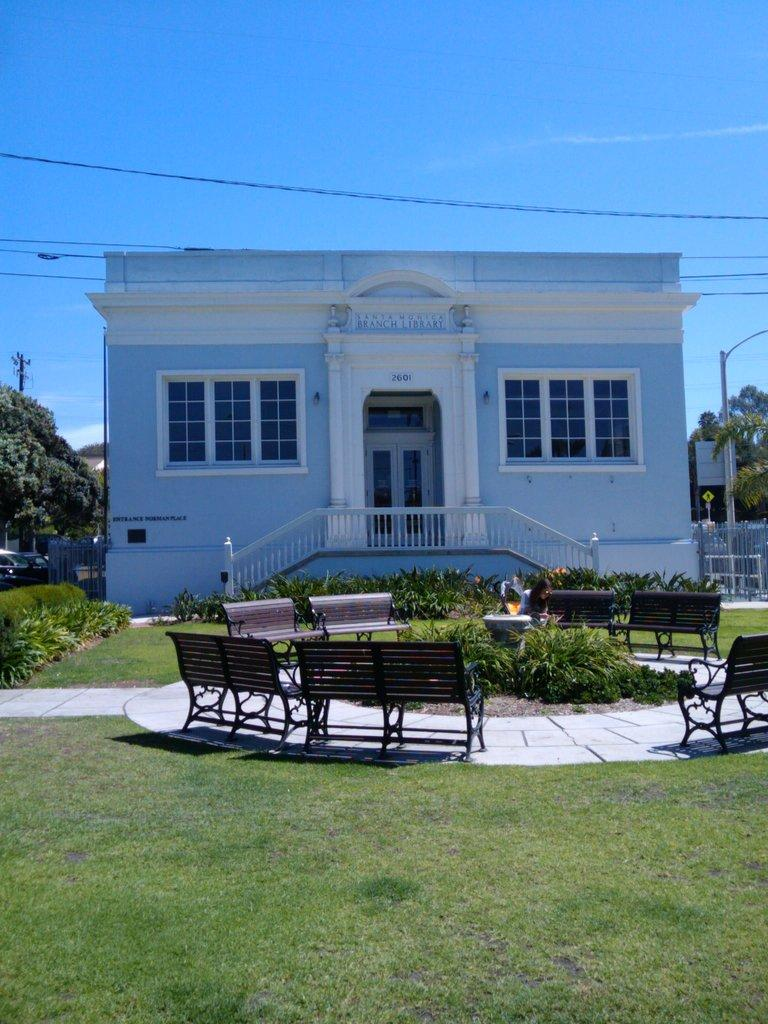Chair: (158, 579, 497, 760)
